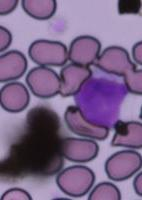L: (75, 69, 132, 128)
